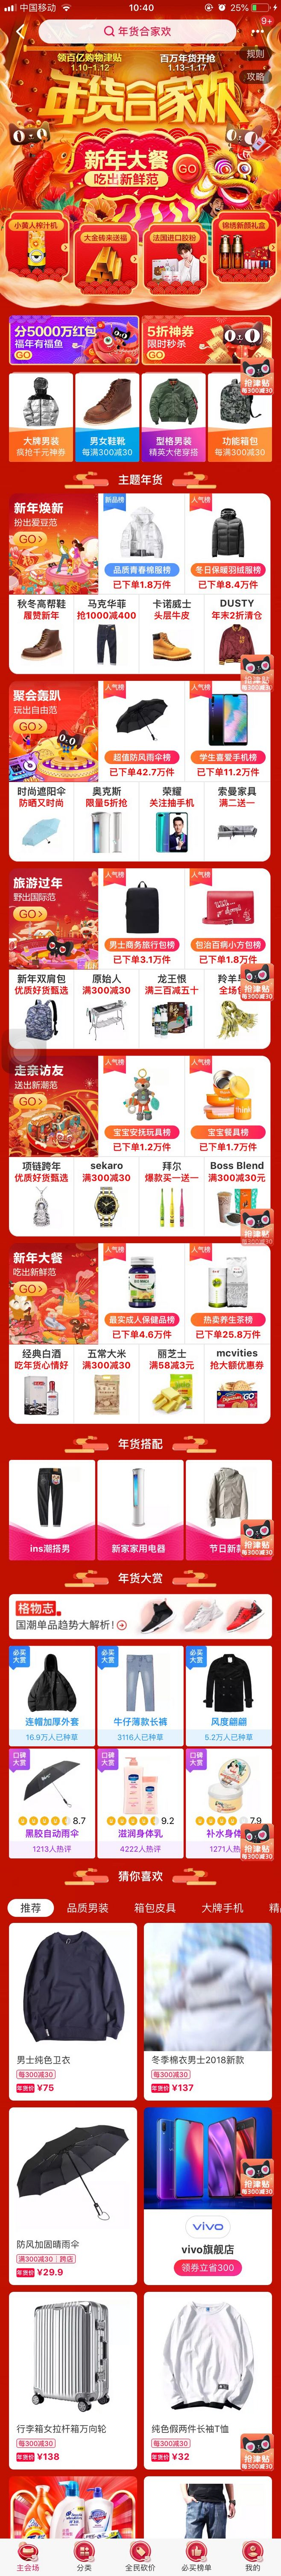floors: (0, 1865, 281, 2472), (0, 1567, 281, 1860), (0, 470, 281, 677), (0, 678, 281, 862), (0, 1055, 281, 1239), (0, 867, 281, 1050), (0, 1242, 281, 1424), (0, 1434, 281, 1564), (2, 371, 281, 463), (0, 210, 281, 297), (2, 312, 281, 366)
toutu: (0, 44, 281, 209)
